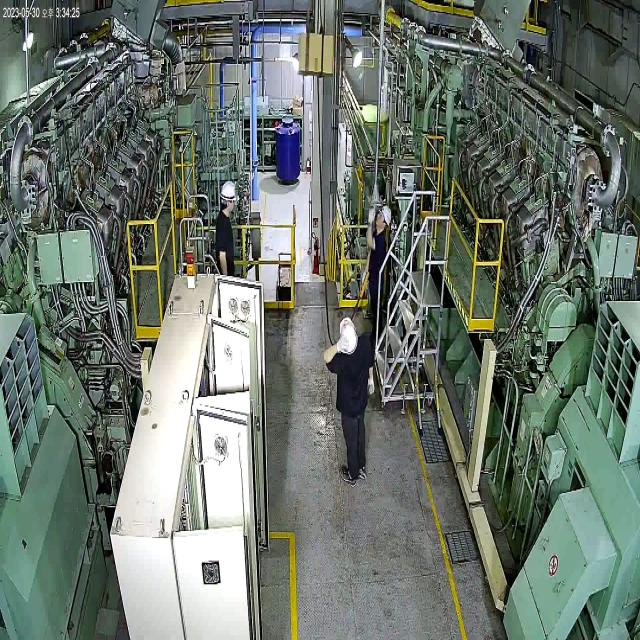Water Tank: (270, 110, 306, 190)
worker: (314, 310, 379, 487), (363, 190, 392, 360), (205, 174, 242, 278)
